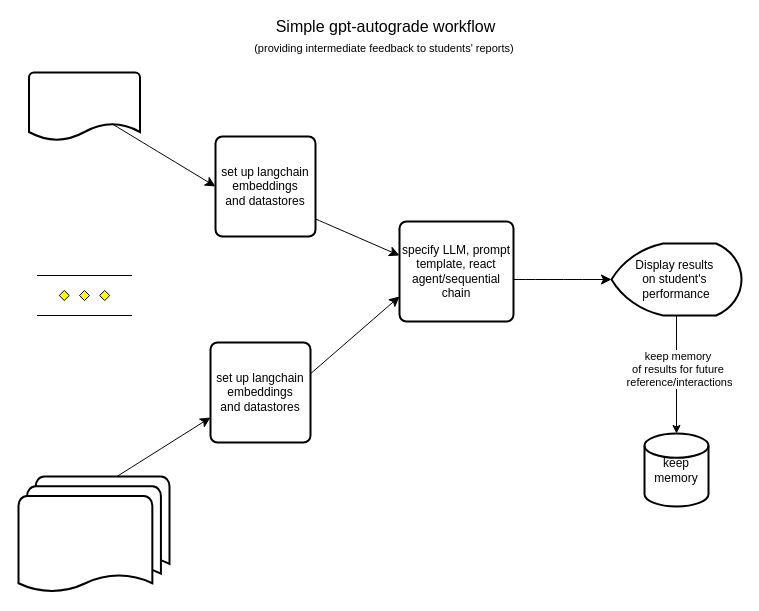
Some shapes in this 759 by 611 pixel diagram are drawn without their labels. Here are the shapes that lost their labels. From the top down, the centre of each, then its label:
[84,106]: Student submission pdf for review
[93,534]: Assignment Description pdf and sample submission & evaluation pdfs.
